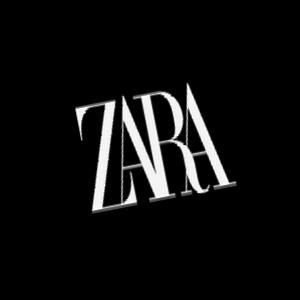zara: (64, 72, 244, 231)
